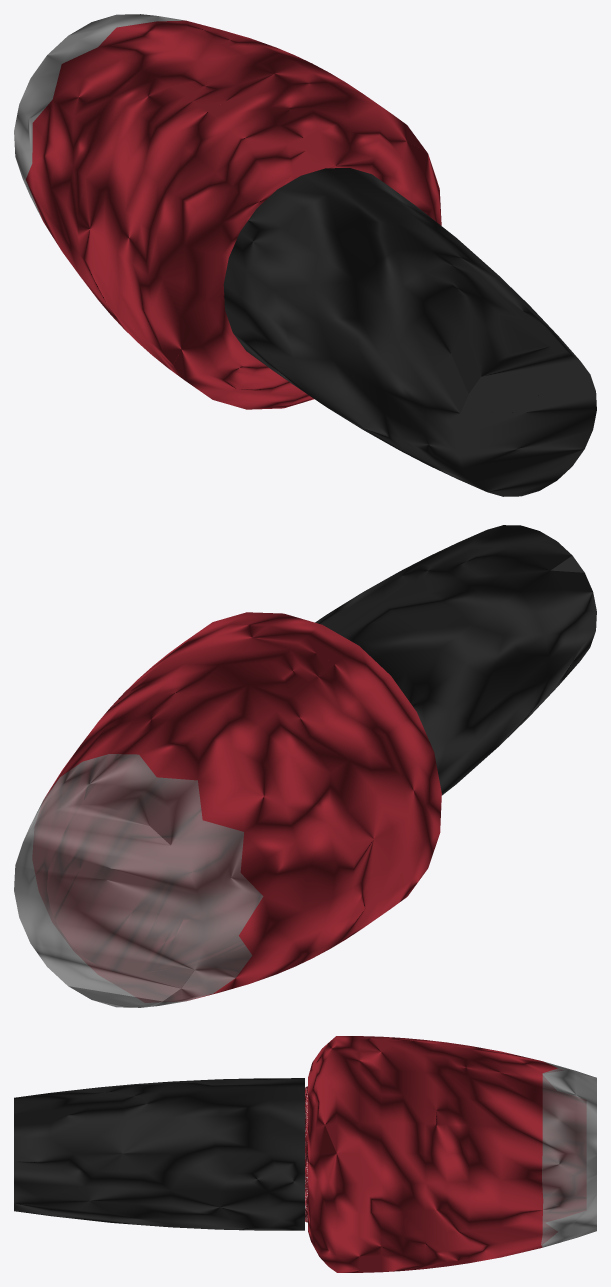
Rendered from model_align.obj.
The picture shows the model from 3 angles, top to bottom: view 1: azimuth 30°, elevation 25°; view 2: azimuth 150°, elevation 25°; view 3: azimuth 270°, elevation 25°; orthographic projection. The views are drawn at different scales.
Bounding box in the file's own units: 0.0986 × 0.0986 × 0.2433.
